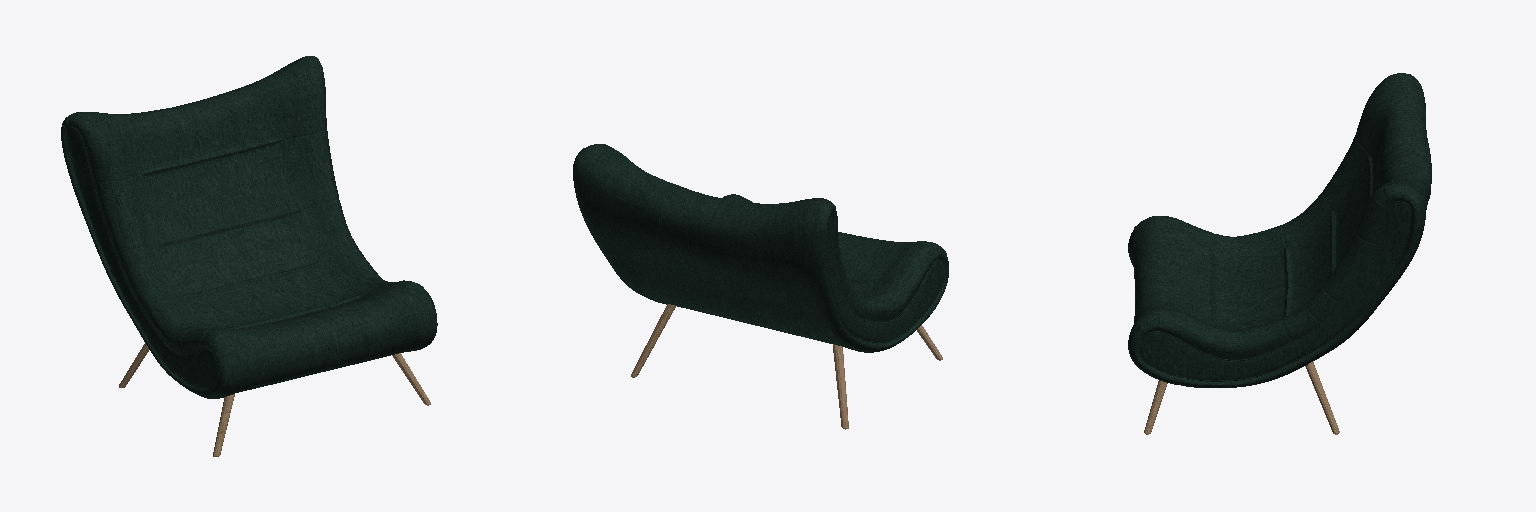
The picture shows the model from 3 angles: view 1: azimuth 30°, elevation 25°; view 2: azimuth 150°, elevation 25°; view 3: azimuth 270°, elevation 25°; orthographic projection.
Parts seen in each view (by area): view 1: sm_sofa02_test01; view 2: sm_sofa02_test01; view 3: sm_sofa02_test01.
Part boxes in pixels (left/top/right/bottom): sm_sofa02_test01: left=61, top=56, right=437, bottom=456; sm_sofa02_test01: left=573, top=144, right=948, bottom=429; sm_sofa02_test01: left=1128, top=73, right=1431, bottom=434.
Size of the model in its own units: 103 by 98.45 by 107.
Materials: 1 (1 with a texture image).